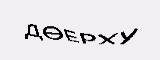Д: (21, 21, 41, 41)
Е: (63, 28, 80, 46)
Р: (79, 29, 95, 47)
У: (119, 28, 137, 48)
Х: (96, 28, 123, 50)
Ө: (41, 21, 65, 42)
